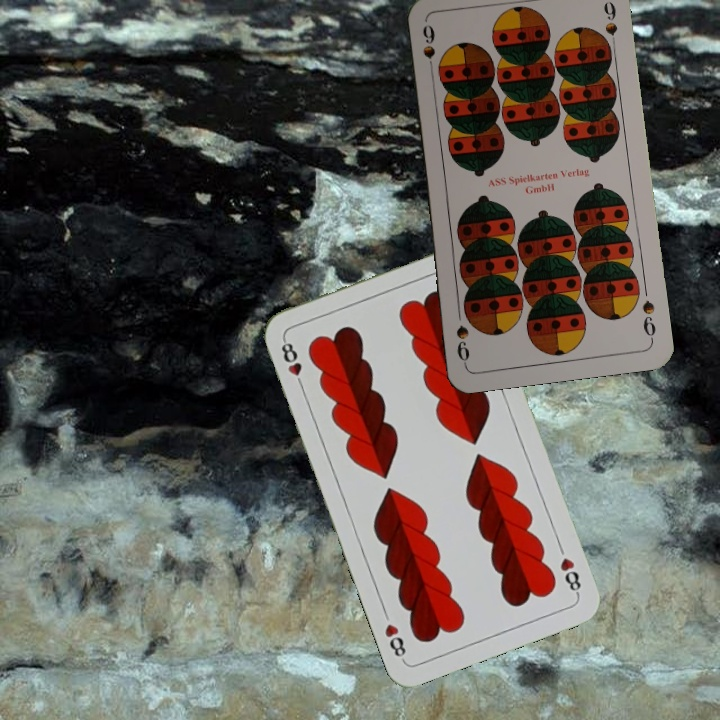H8: (277, 334, 307, 391), (556, 553, 584, 598)
S9: (638, 296, 658, 344), (418, 21, 438, 65)
